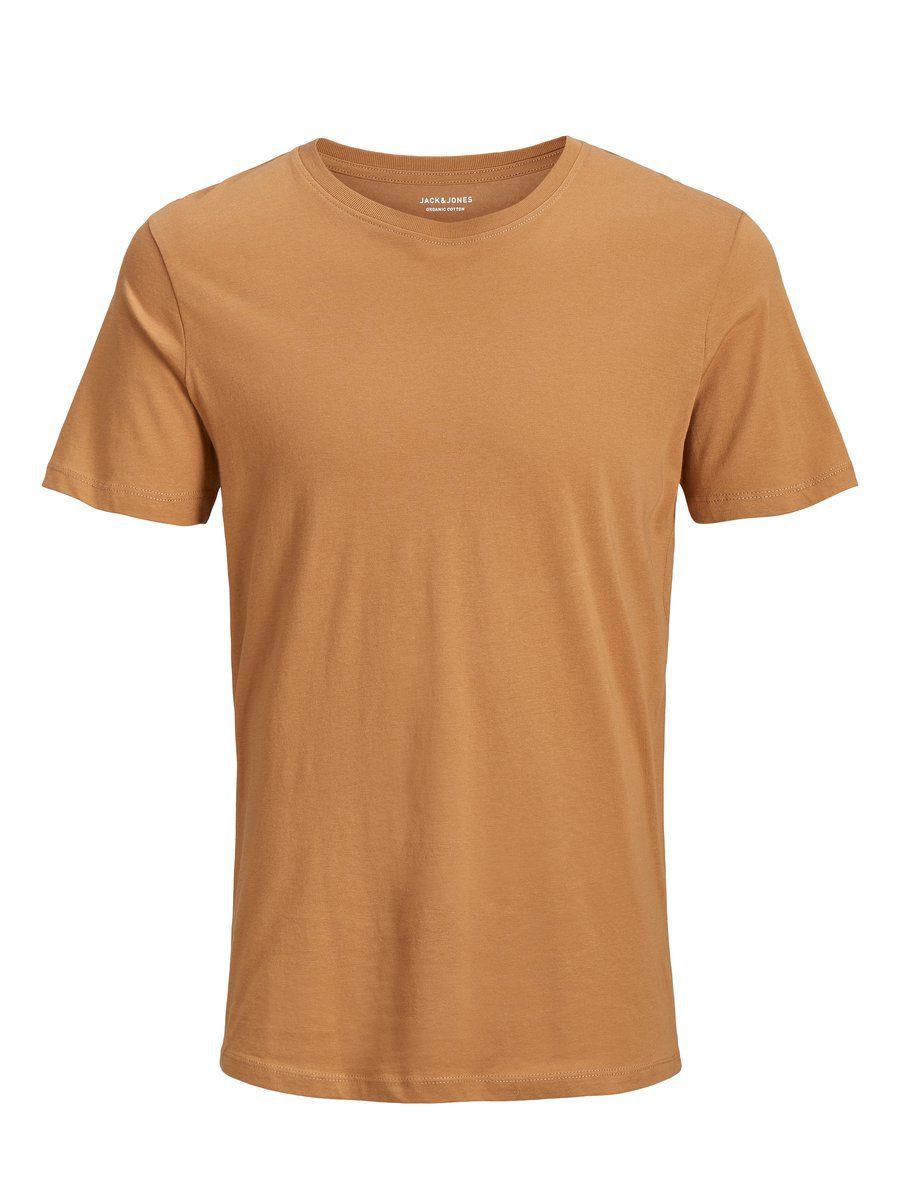teeshirt: (34, 111, 876, 1194)
